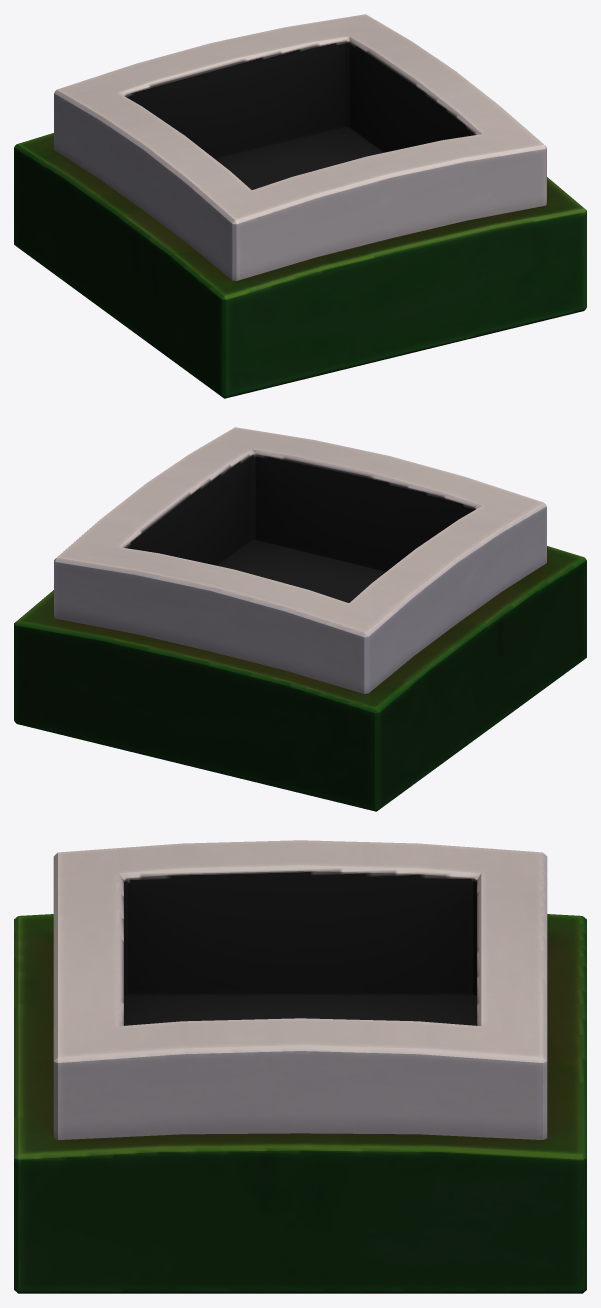
The model's file is Trash.obj.
The picture shows the model from 3 angles, top to bottom: view 1: azimuth 30°, elevation 25°; view 2: azimuth 150°, elevation 25°; view 3: azimuth 270°, elevation 25°; orthographic projection. The views are drawn at different scales.
Visible parts, largest first — view 1: Garbage_Can.001; view 2: Garbage_Can.001; view 3: Garbage_Can.001.
Part boxes in pixels (bbox=[...]): Garbage_Can.001: bbox=[14, 14, 586, 398]; Garbage_Can.001: bbox=[14, 427, 586, 811]; Garbage_Can.001: bbox=[14, 840, 586, 1293].
Size of the model in its own units: 2 by 0.8957 by 2.
1 material, 1 textured.
